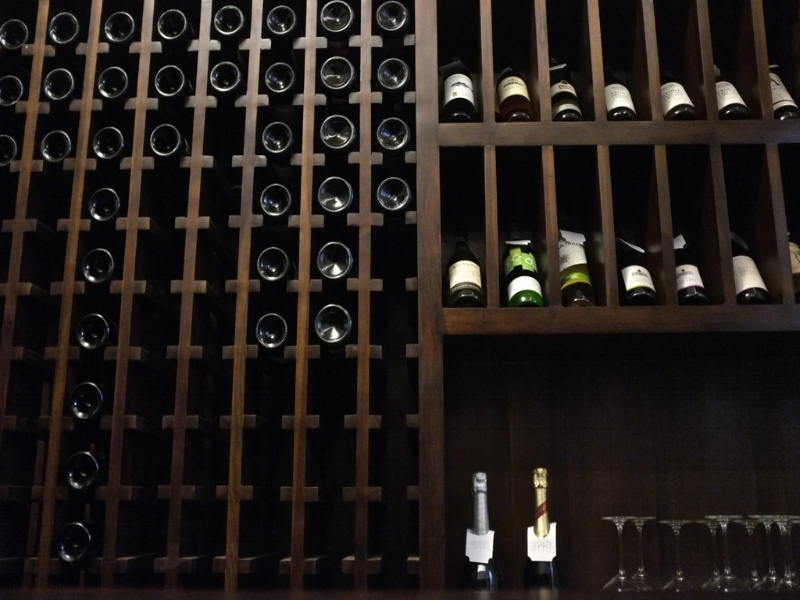wine: (1, 1, 429, 586), (440, 53, 800, 314), (452, 455, 799, 600)
